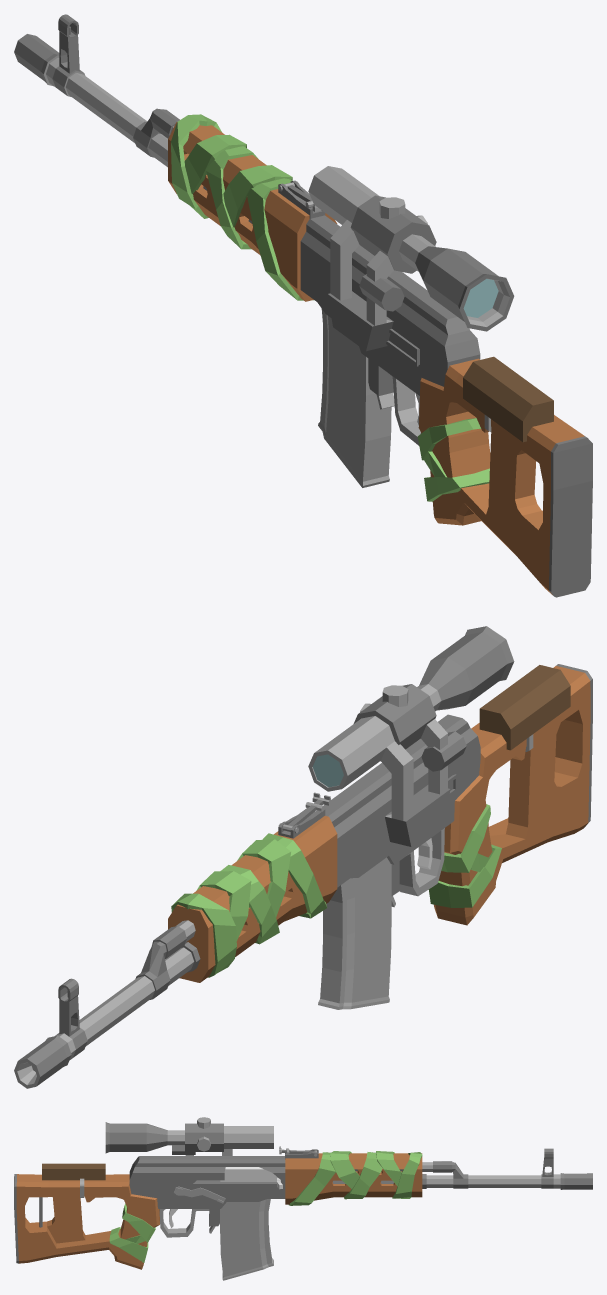
Rendered from CartoonySVD.fbx.
3 renders of one model, top to bottom at view 1: azimuth 30°, elevation 25°; view 2: azimuth 150°, elevation 25°; view 3: azimuth 270°, elevation 25°, orthographic. The views are drawn at different scales.
Visible parts, largest first — view 1: SVD, Scope, Camoflage, Magazine; view 2: SVD, Scope, Camoflage, Magazine; view 3: SVD, Camoflage, Scope, Magazine, Bolt, Safety.
Part boxes in pixels (box(x1,y1,x2,y2)): SVD: box(14, 14, 592, 597); Scope: box(308, 166, 514, 351); Camoflage: box(171, 114, 489, 501); Magazine: box(318, 309, 391, 487); SVD: box(14, 664, 592, 1088); Scope: box(308, 626, 514, 846); Camoflage: box(171, 804, 501, 977); Magazine: box(318, 857, 391, 1009); SVD: box(14, 1148, 592, 1269); Camoflage: box(109, 1151, 422, 1262); Scope: box(105, 1117, 273, 1155); Magazine: box(220, 1199, 273, 1280); Bolt: box(220, 1167, 282, 1189); Safety: box(173, 1186, 225, 1203).
Size of the model in its own units: 10.26 by 36.3 by 121.
